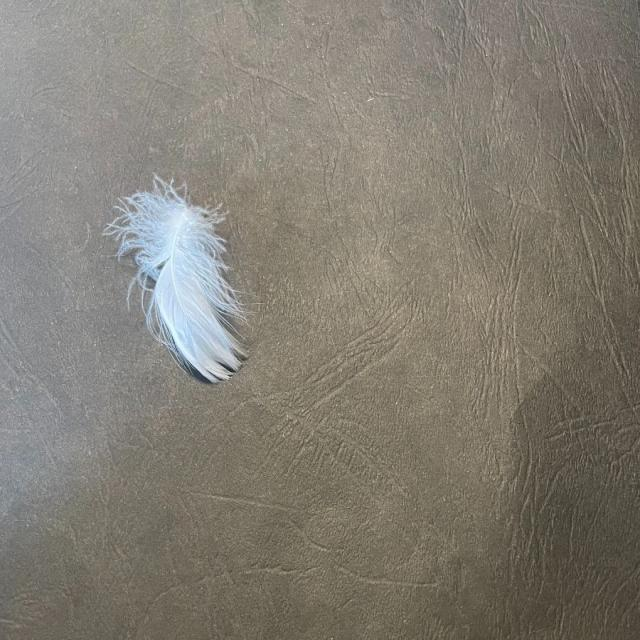feather: (103, 172, 251, 383)
